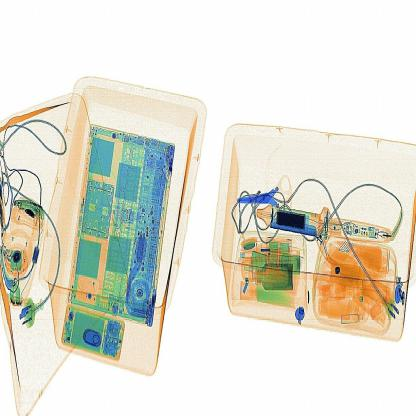gun: (234, 170, 302, 226)
